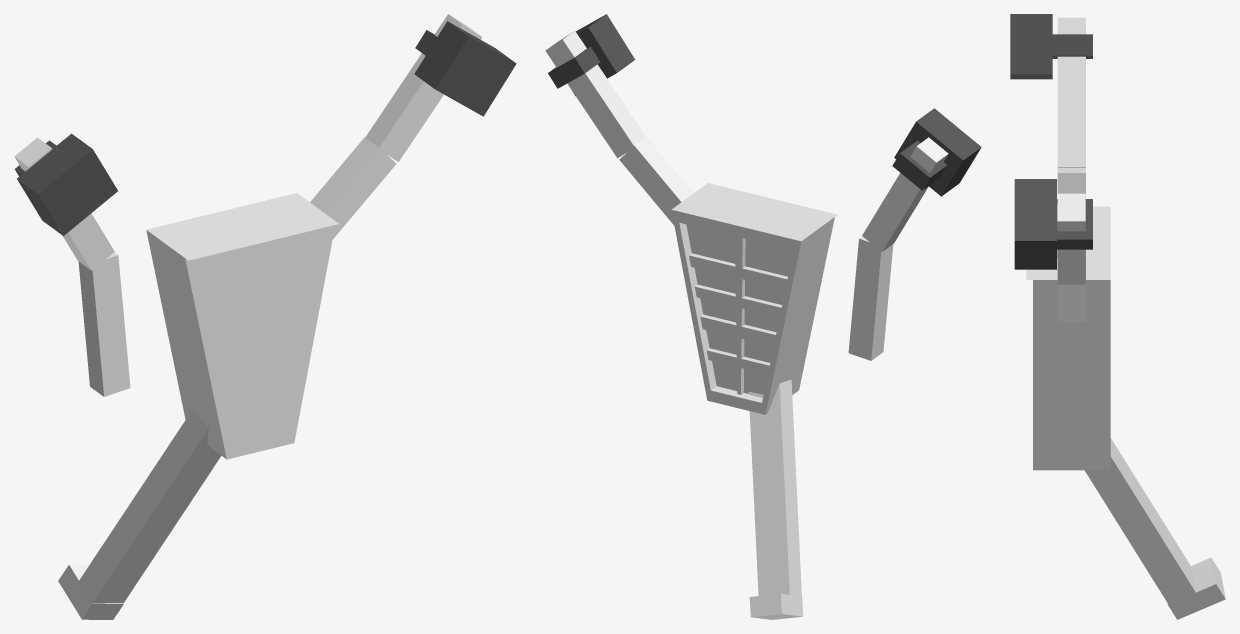
File: Cadaver3.fbx
The picture shows the model from 3 angles, left to right: view 1: azimuth 30°, elevation 25°; view 2: azimuth 150°, elevation 25°; view 3: azimuth 270°, elevation 25°; orthographic projection. The views are drawn at different scales.
Visible parts, largest first — view 1: polySurface21; view 2: polySurface21; view 3: polySurface21.
Part boxes in pixels (x1,y1,x2,y2): polySurface21: [14, 14, 516, 619]; polySurface21: [545, 14, 981, 619]; polySurface21: [1010, 14, 1225, 619].
Size of the model in its own units: 2.41 by 2.76 by 0.9406.
